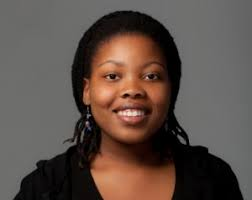black_female: (72, 10, 196, 145)
